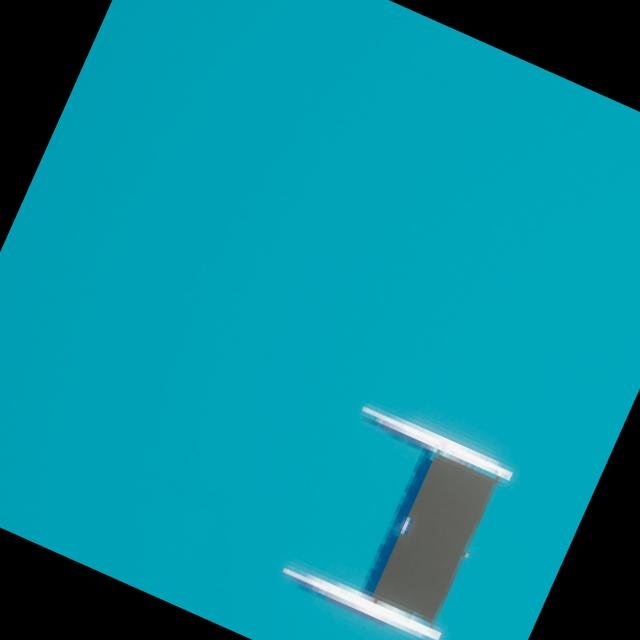boat: (263, 385, 532, 640)
drone: (370, 454, 496, 622)
